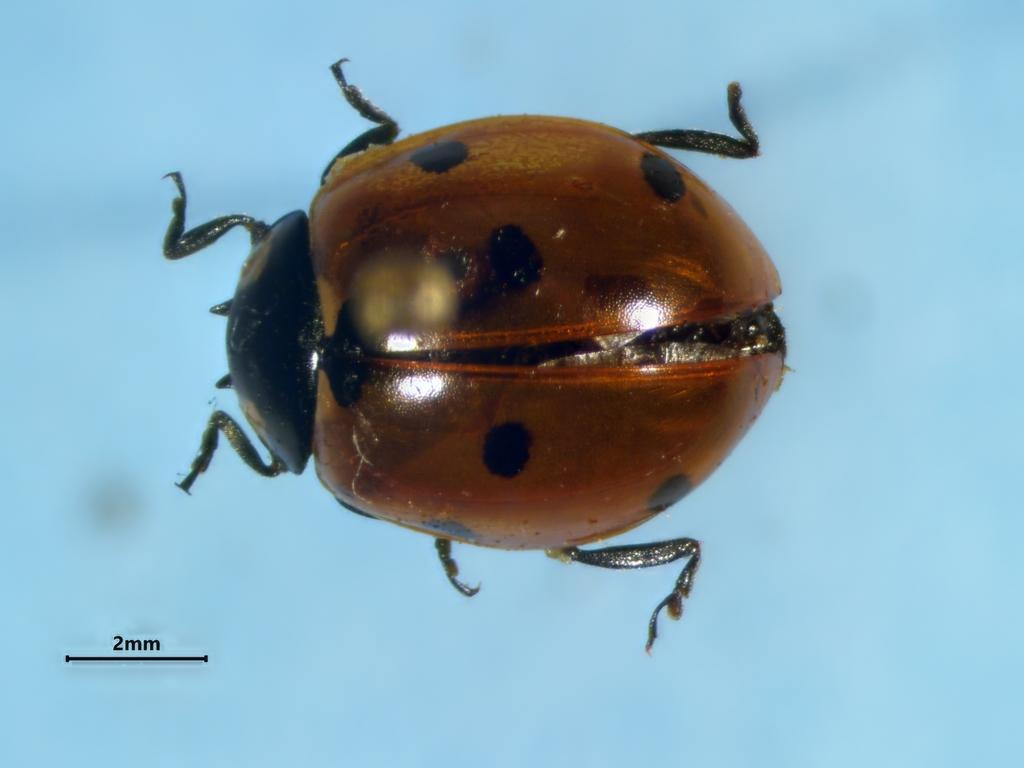ladybug: (157, 47, 799, 663)
